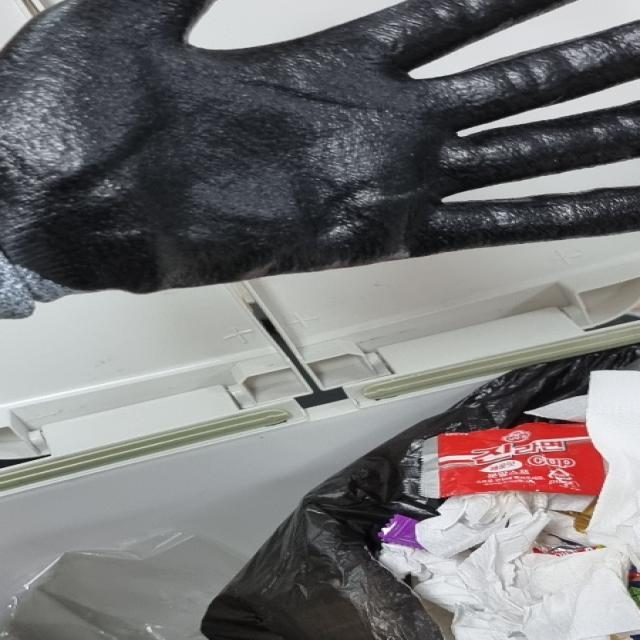Gloves: (0, 2, 637, 322)
